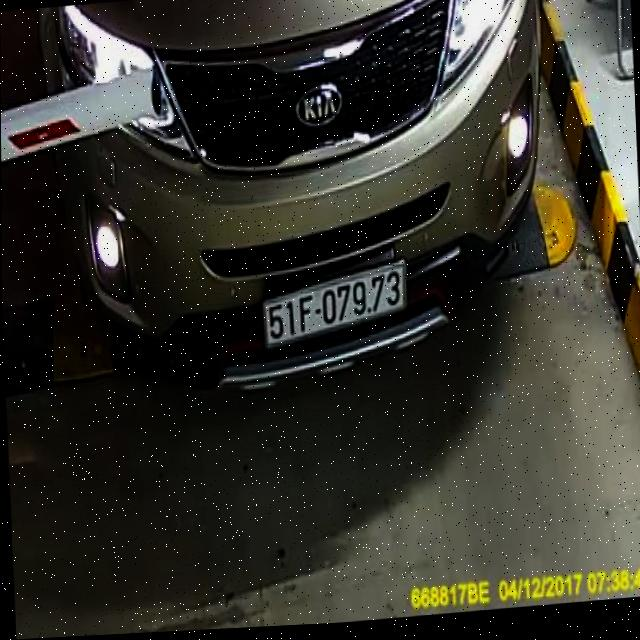car: (30, 0, 561, 413)
plate: (260, 264, 407, 348)
